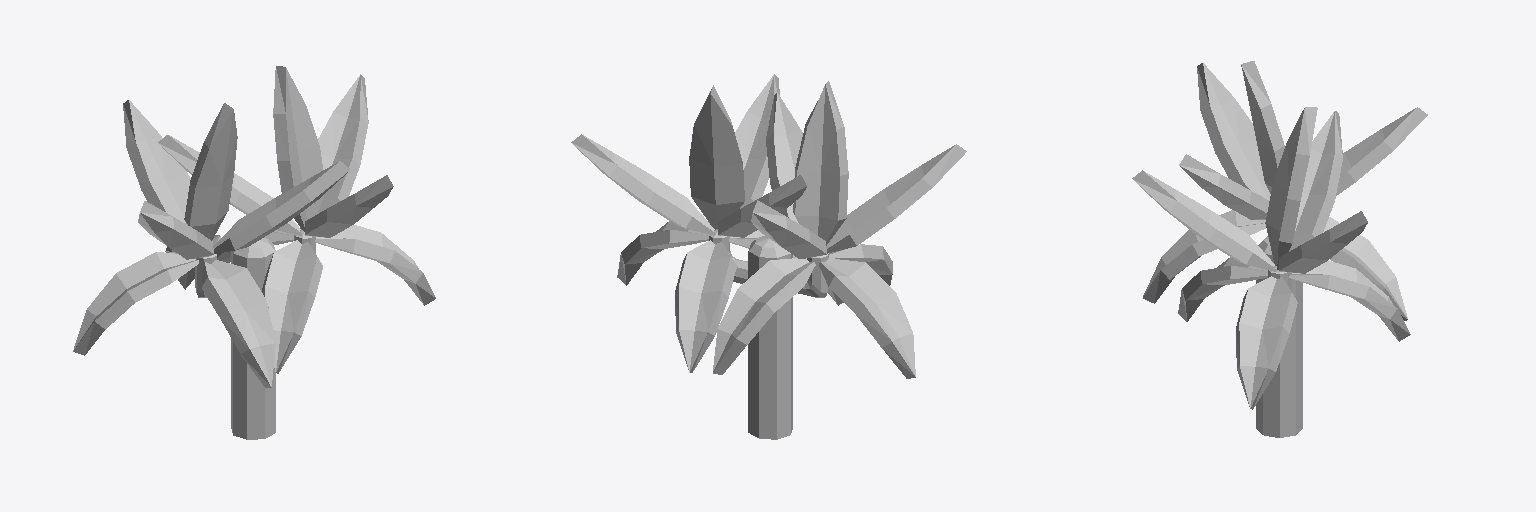
Rendered from yucca_branch_small_A.obj.
3 renders of one model, left to right at view 1: azimuth 30°, elevation 25°; view 2: azimuth 150°, elevation 25°; view 3: azimuth 270°, elevation 25°, orthographic.
Parts seen in each view (by area): view 1: yucca_branch_small_A; view 2: yucca_branch_small_A; view 3: yucca_branch_small_A.
Boxes of the visible parts, x1,y1,x2,y2 form: yucca_branch_small_A: [73, 66, 435, 439]; yucca_branch_small_A: [571, 74, 966, 439]; yucca_branch_small_A: [1132, 61, 1427, 437].
Bounding box in the file's own units: 0.8249 × 0.8273 × 0.6393.